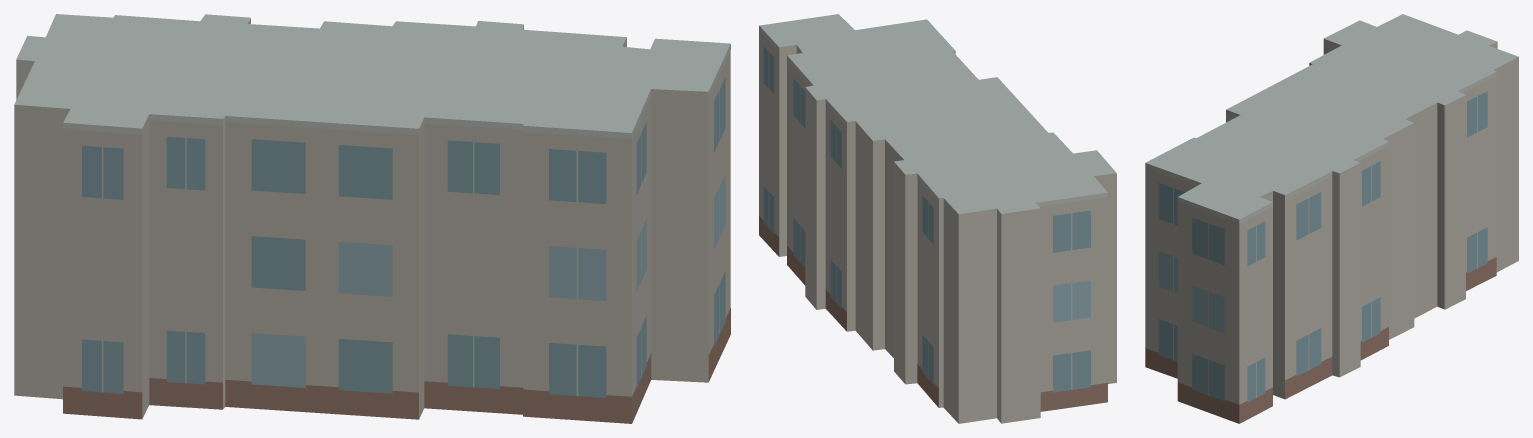
The model's file is survey-upis-32958133.glb.
3 views of the same model, side by side, from view 1: azimuth 30°, elevation 25°; view 2: azimuth 150°, elevation 25°; view 3: azimuth 270°, elevation 25° (orthographic). The views are drawn at different scales.
Visible parts, largest first — view 1: survey-upis-32958133.tmp; view 2: survey-upis-32958133.tmp; view 3: survey-upis-32958133.tmp.
Part boxes in pixels (x1,y1,x2,y2): survey-upis-32958133.tmp: [14, 14, 730, 423]; survey-upis-32958133.tmp: [759, 14, 1116, 423]; survey-upis-32958133.tmp: [1145, 14, 1518, 423].
Size of the model in its own units: 24.09 by 11.15 by 18.49.
